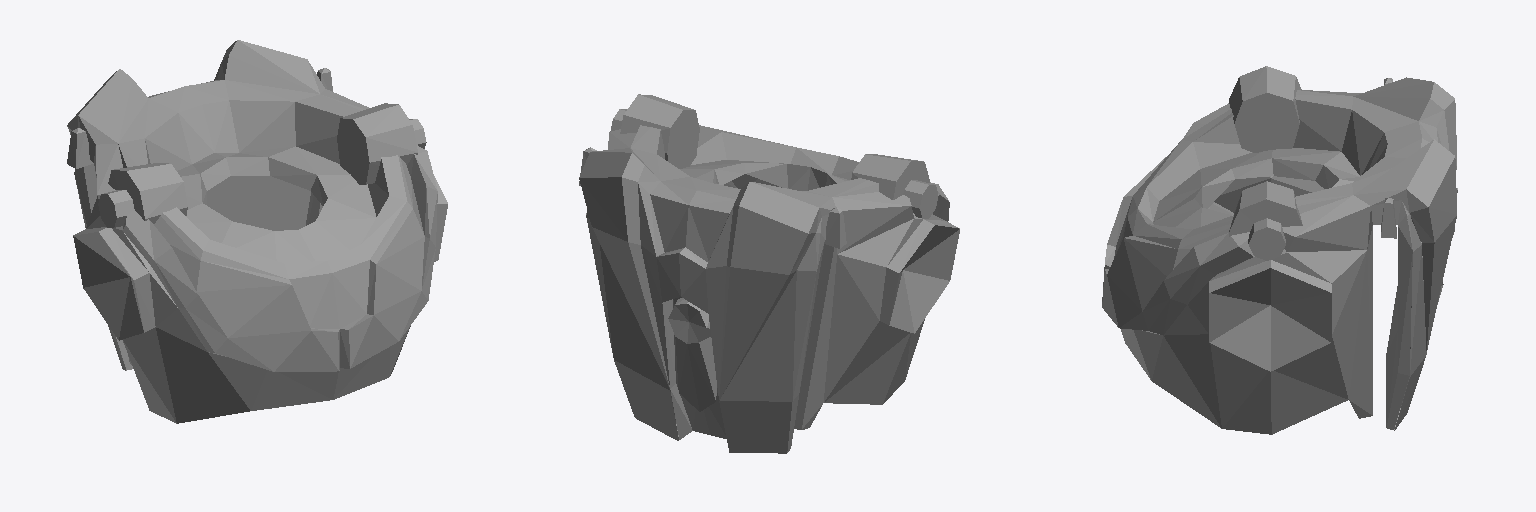
File: buzzlightyTorso.obj
3 views of the same model, side by side, from view 1: azimuth 30°, elevation 25°; view 2: azimuth 150°, elevation 25°; view 3: azimuth 270°, elevation 25° (orthographic).
Visible parts, largest first — view 1: buzzlightyTorso_buzzlighty.001; view 2: buzzlightyTorso_buzzlighty.001; view 3: buzzlightyTorso_buzzlighty.001.
Boxes of the visible parts, <box> form: buzzlightyTorso_buzzlighty.001: <box>67,40,447,423</box>; buzzlightyTorso_buzzlighty.001: <box>579,94,959,453</box>; buzzlightyTorso_buzzlighty.001: <box>1102,66,1457,434</box>.
Size of the model in its own units: 0.363 by 0.311 by 0.3446.